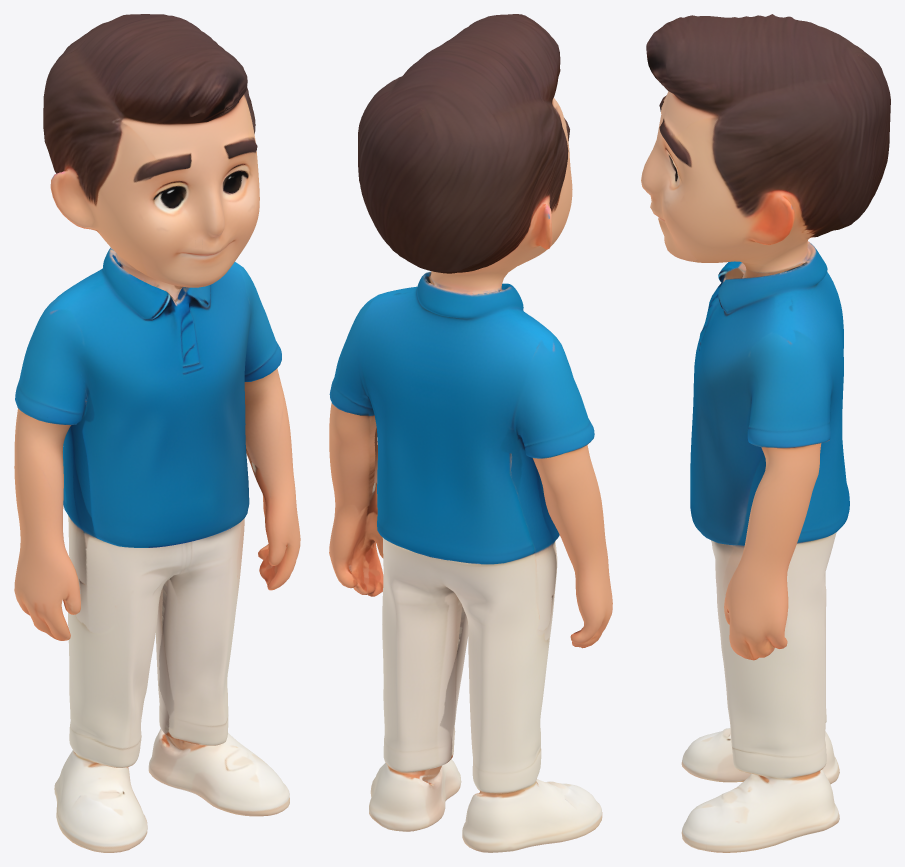
File: ideassion_shaded.glb
The picture shows the model from 3 angles, left to right: view 1: azimuth 30°, elevation 25°; view 2: azimuth 150°, elevation 25°; view 3: azimuth 270°, elevation 25°; orthographic projection.
Visible parts, largest first — view 1: model; view 2: model; view 3: model.
Boxes of the visible parts, bbox=[...] form: model: bbox=[14, 14, 300, 852]; model: bbox=[329, 14, 612, 852]; model: bbox=[641, 14, 890, 852].
Bounding box in the file's own units: 0.7001 × 1.9 × 0.551.
Materials: 1 (1 with a texture image).
